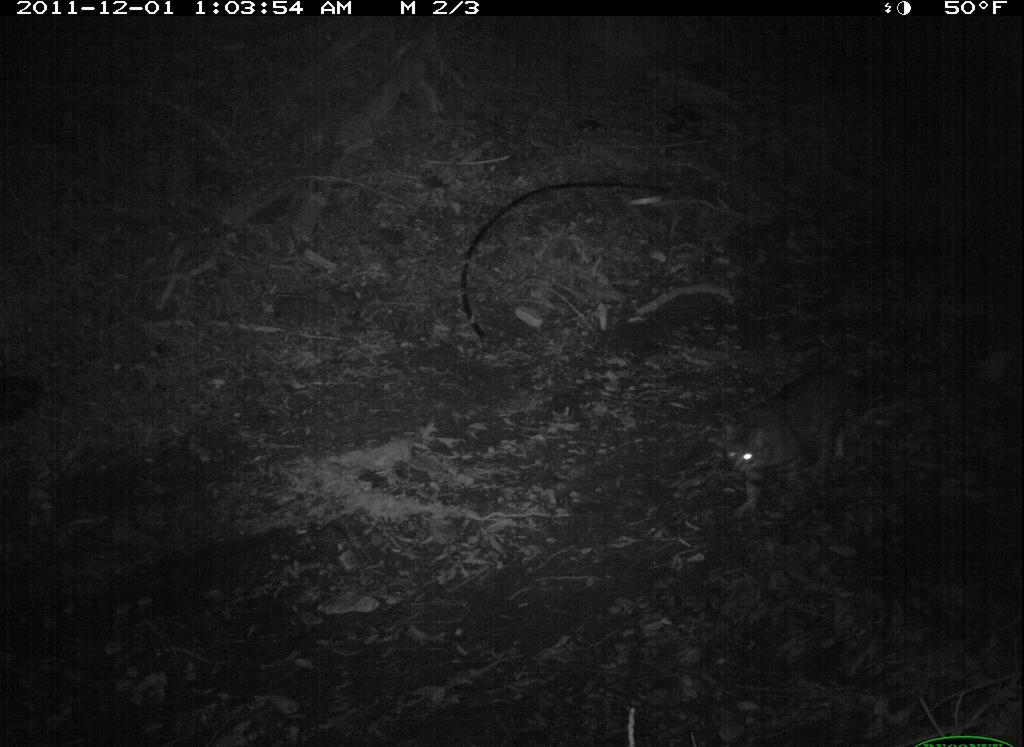cat: (712, 353, 872, 523)
